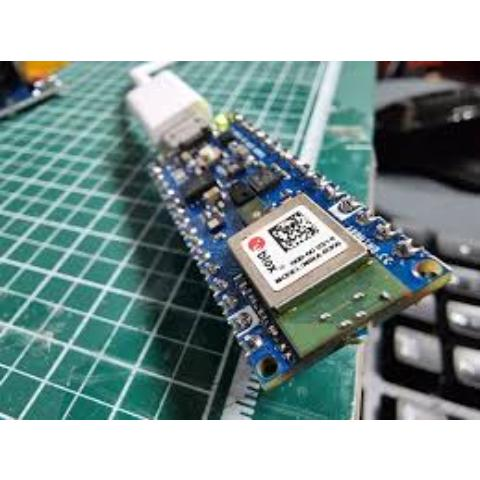Arduino-Nano: (134, 103, 464, 394)
